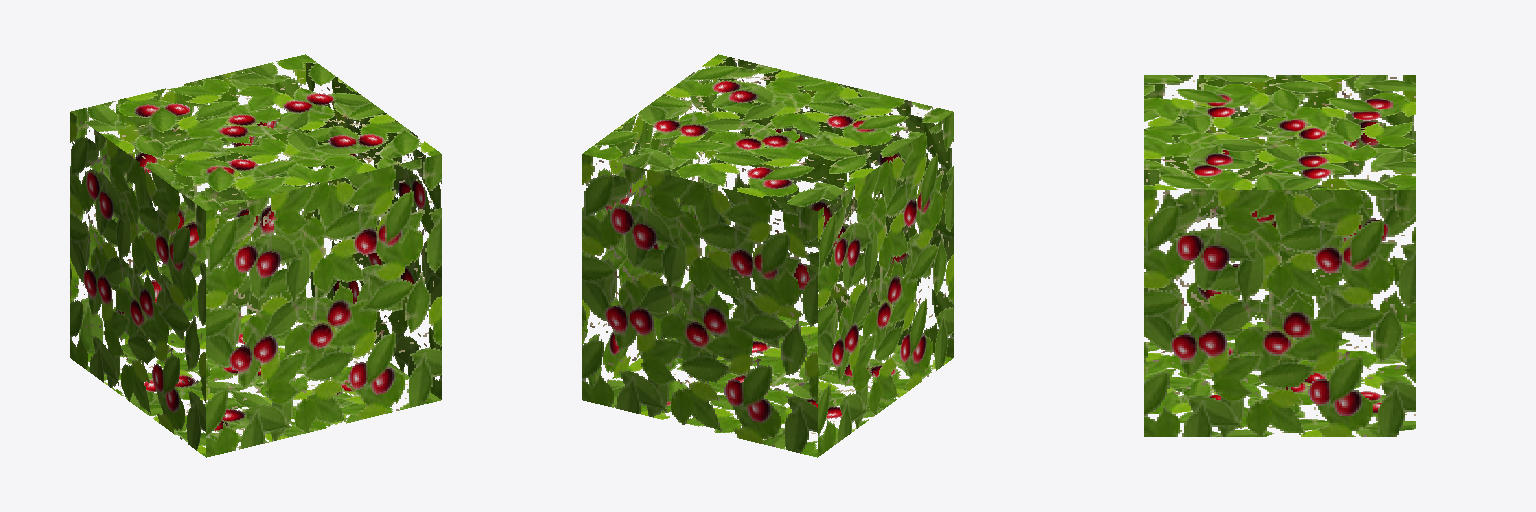
The picture shows the model from 3 angles: view 1: azimuth 30°, elevation 25°; view 2: azimuth 150°, elevation 25°; view 3: azimuth 270°, elevation 25°; orthographic projection.
Visible parts, largest first — view 1: tree_cherry_fruit_leaf; view 2: tree_cherry_fruit_leaf; view 3: tree_cherry_fruit_leaf.
Boxes of the visible parts, x1,y1,x2,y2 form: tree_cherry_fruit_leaf: [70, 54, 441, 457]; tree_cherry_fruit_leaf: [582, 54, 953, 457]; tree_cherry_fruit_leaf: [1144, 75, 1415, 436].
Bounding box in the file's own units: 1 × 1 × 1.
1 materials, 1 textured.